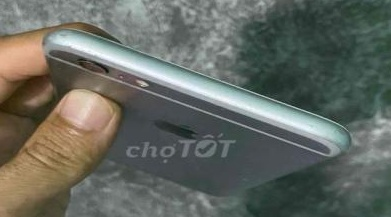scratch: (43, 27, 114, 60)
